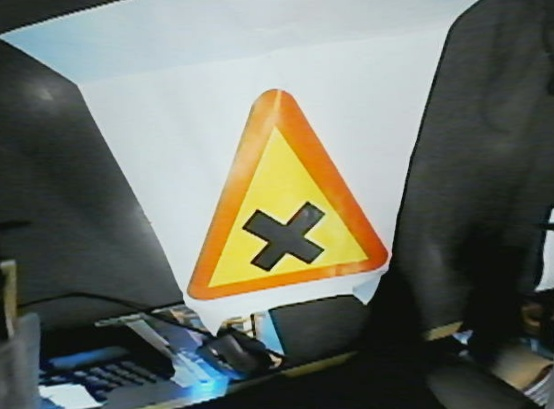junction: (163, 86, 405, 302)
